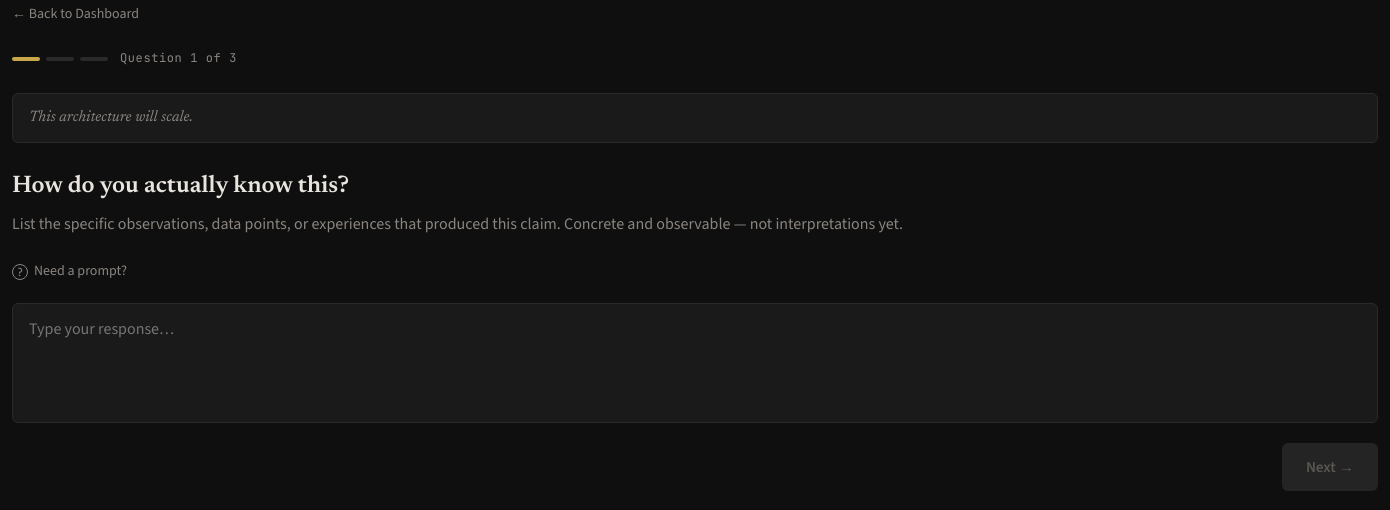
Scenario: PressureTest › step 3 shows "Finish" instead of "Next"
Type "Evidence here." into the text box at point(695, 363), box [12,303,1378,423]
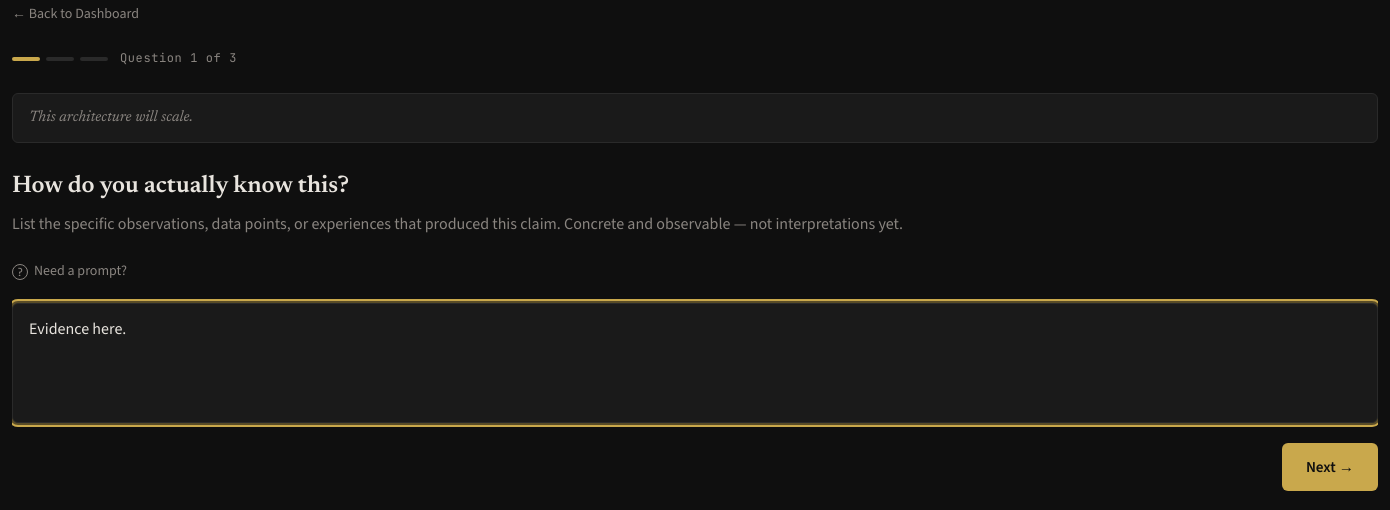
Click the button "Next →" at point(1330, 467), box [1282,443,1378,491]
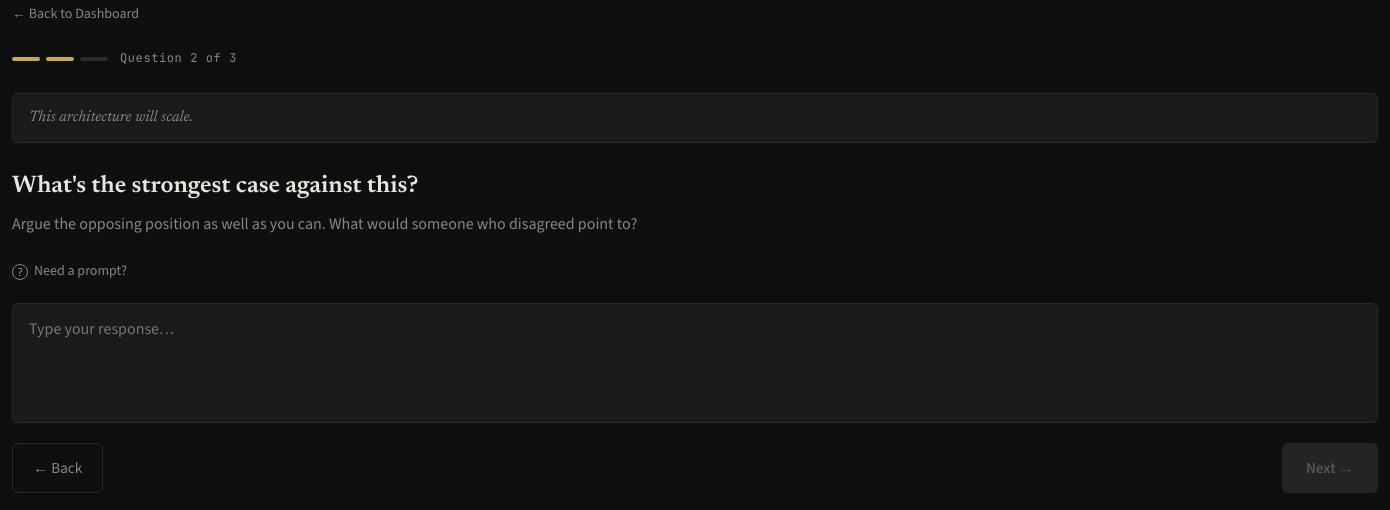
Type "Steelman here." into the text box at point(695, 363), box [12,303,1378,423]
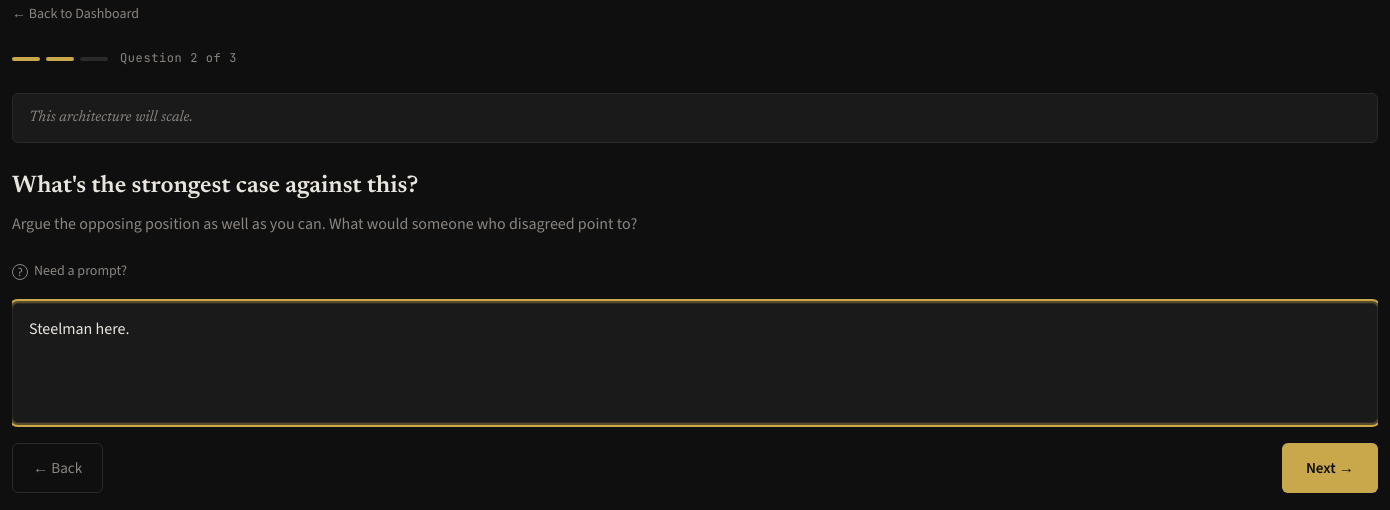
Click the button "Next →" at point(1330, 468), box [1282,443,1378,493]
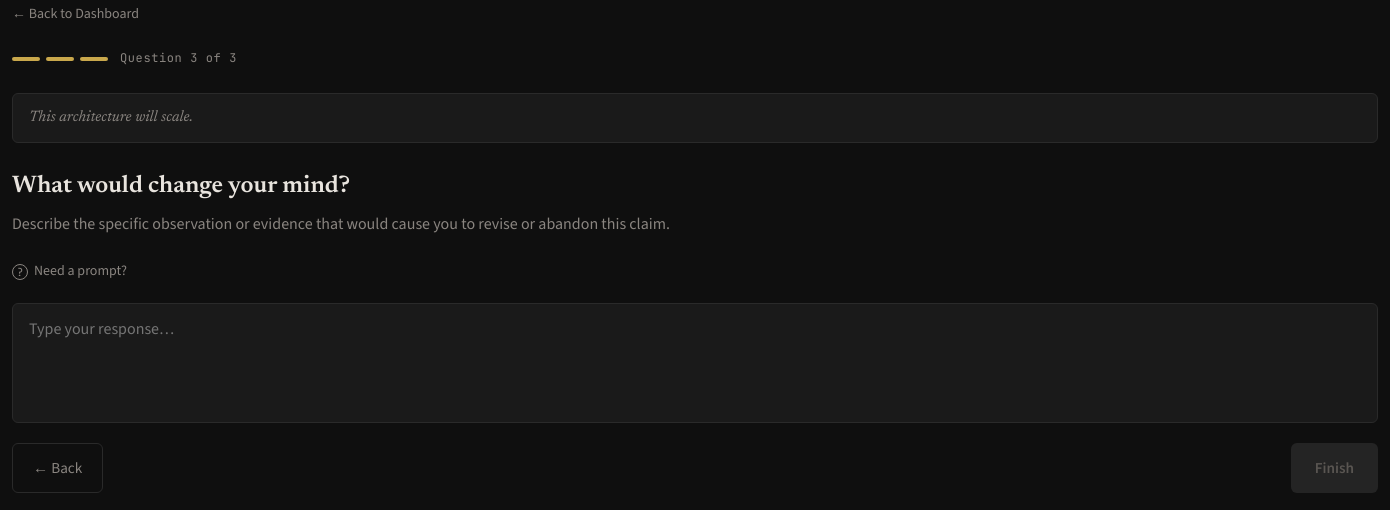
Expected: the button "Next" is gone
Expected: the button "Finish" is shown, [1291,443,1378,493]
